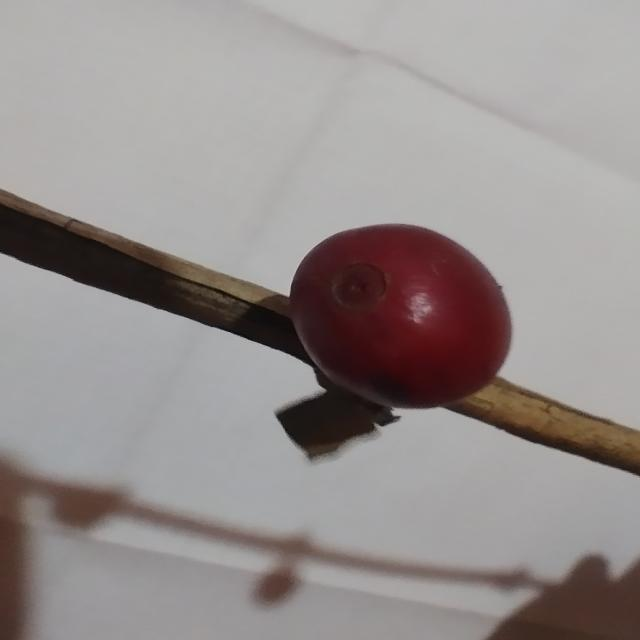Sano: (290, 225, 515, 410)
